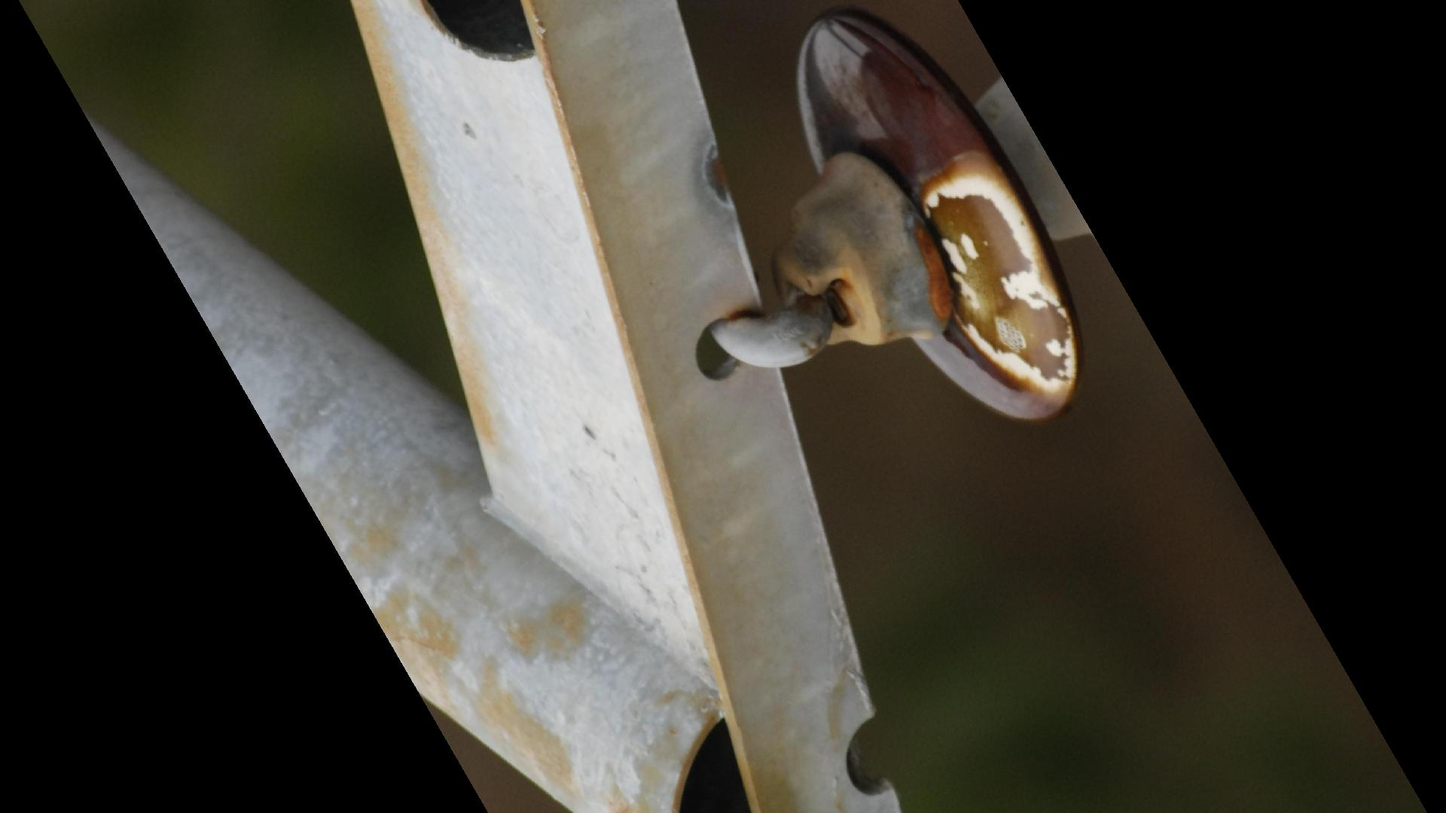insulator: (789, 13, 1089, 432)
insulator_flashover: (917, 160, 1084, 401)
